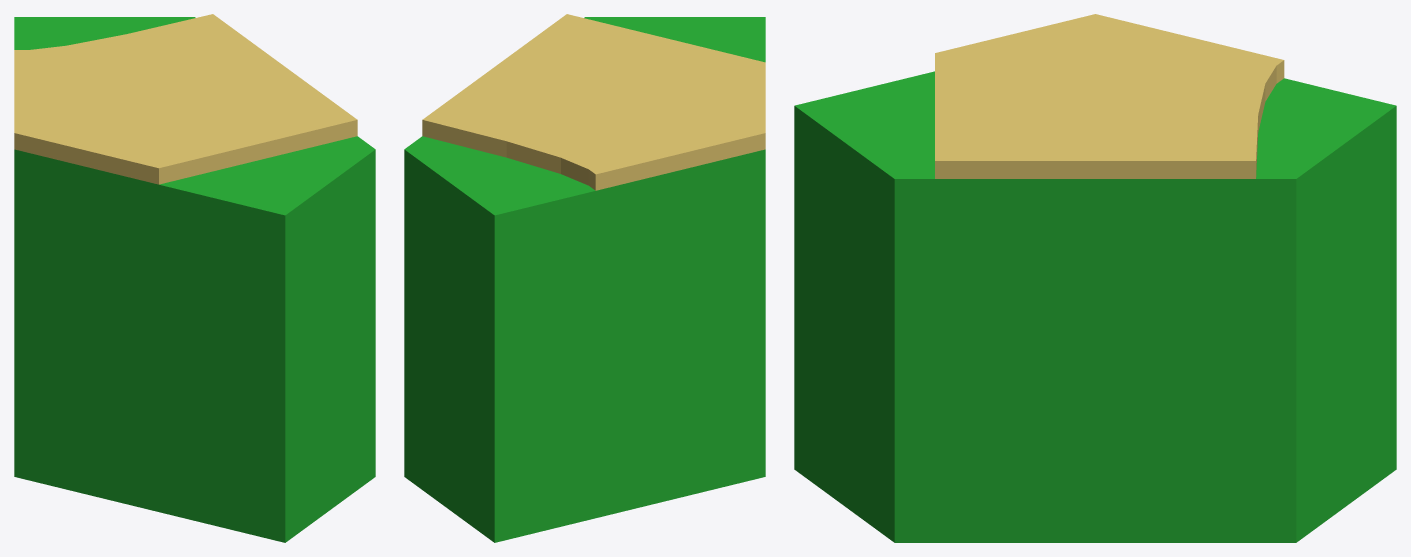
Rendered from module-corner_land_path_right_003.glb.
The picture shows the model from 3 angles, left to right: view 1: azimuth 30°, elevation 25°; view 2: azimuth 150°, elevation 25°; view 3: azimuth 270°, elevation 25°; orthographic projection. The views are drawn at different scales.
Parts seen in each view (by area): view 1: module-corner_land_path_right_003; view 2: module-corner_land_path_right_003; view 3: module-corner_land_path_right_003.
Boxes of the visible parts, x1=… form: module-corner_land_path_right_003: x1=14, y1=14, x2=375, y2=542; module-corner_land_path_right_003: x1=404, y1=14, x2=765, y2=542; module-corner_land_path_right_003: x1=794, y1=14, x2=1396, y2=542.
Size of the model in its own units: 0.433 by 0.525 by 0.75.
